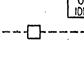Cable Termination Box: (25, 16, 46, 46)
